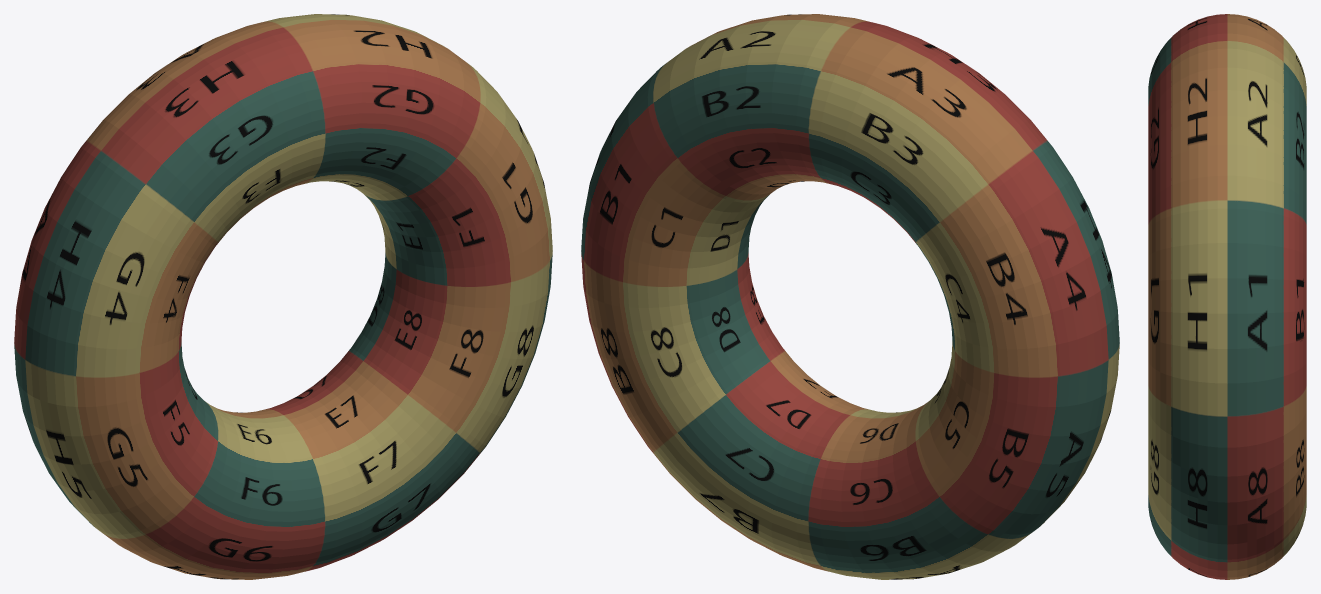
File: texture_torus_R6_r13.glb
3 renders of one model, left to right at view 1: azimuth 30°, elevation 25°; view 2: azimuth 150°, elevation 25°; view 3: azimuth 270°, elevation 25°, orthographic. The views are drawn at different scales.
Visible parts, largest first — view 1: world; view 2: world; view 3: world.
Part boxes in pixels (x1,y1,x2,y2): world: (14, 14, 552, 579); world: (581, 14, 1119, 579); world: (1148, 14, 1306, 579).
Size of the model in its own units: 19.47 by 19.43 by 5.46.
1 material, 1 textured.
